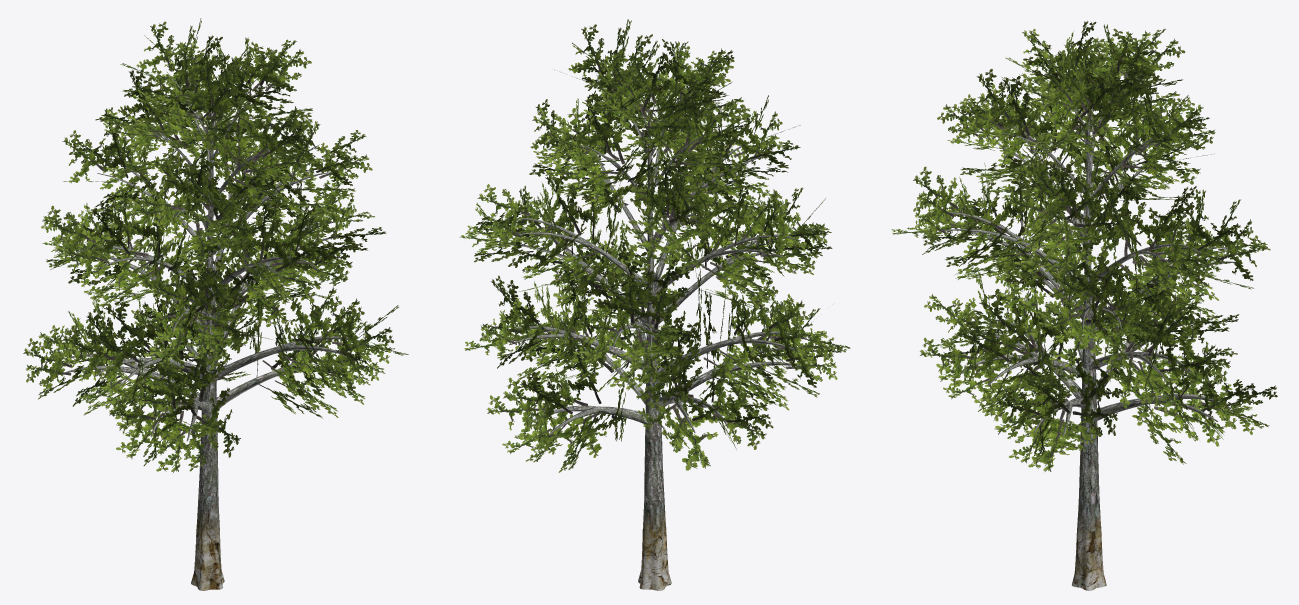
File: mdl_Krank_low_poly_tree.gltf
3 renders of one model, left to right at view 1: azimuth 30°, elevation 25°; view 2: azimuth 150°, elevation 25°; view 3: azimuth 270°, elevation 25°, orthographic.
Parts seen in each view (by area): view 1: LowPolyTree, LowPolyTree.002; view 2: LowPolyTree, LowPolyTree.002; view 3: LowPolyTree, LowPolyTree.002.
Boxes of the visible parts, x1,y1,x2,y2 form: LowPolyTree: (23,18,408,472); LowPolyTree.002: (65,69,369,590); LowPolyTree: (459,19,850,472); LowPolyTree.002: (499,74,806,590); LowPolyTree: (891,21,1277,471); LowPolyTree.002: (933,66,1236,590).
Size of the model in its own units: 980 by 1457 by 940.
Materials: 2 (2 with a texture image).
